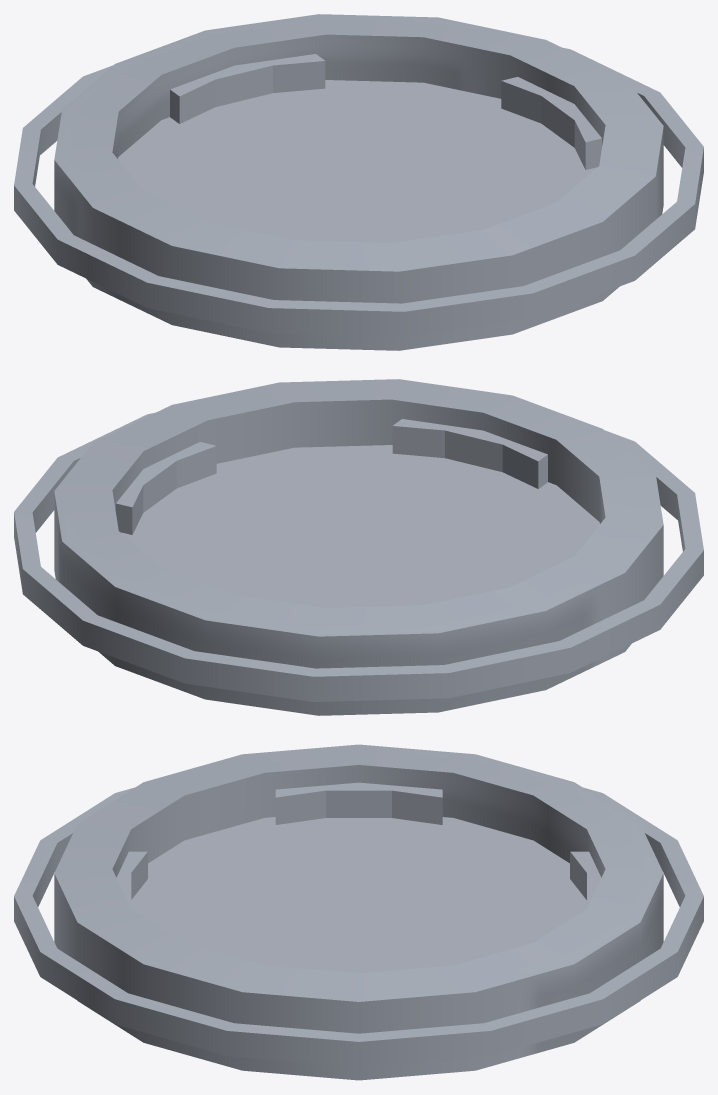
File: Mask.fbx
3 views of the same model, one above another, from view 1: azimuth 30°, elevation 25°; view 2: azimuth 150°, elevation 25°; view 3: azimuth 270°, elevation 25° (orthographic).
Visible parts, largest first — view 1: 柱体, 柱体.001, 柱体.002, 立方体.001; view 2: 柱体, 柱体.001, 柱体.002, 立方体.001; view 3: 柱体, 柱体.001, 柱体.002, 立方体.001.
Boxes of the visible parts, left/top/right/bottom form: 柱体: left=54, top=14, right=663, bottom=350; 柱体.001: left=118, top=80, right=596, bottom=242; 柱体.002: left=14, top=48, right=703, bottom=336; 立方体.001: left=128, top=54, right=602, bottom=186; 柱体: left=54, top=379, right=663, bottom=715; 柱体.001: left=121, top=445, right=599, bottom=607; 柱体.002: left=14, top=413, right=703, bottom=701; 立方体.001: left=115, top=419, right=589, bottom=551; 柱体: left=54, top=744, right=663, bottom=1080; 柱体.001: left=131, top=817, right=586, bottom=973; 柱体.002: left=14, top=787, right=703, bottom=1066; 立方体.001: left=116, top=782, right=601, bottom=916.
Bounding box in the file's own units: 393 × 54.49 × 393.
